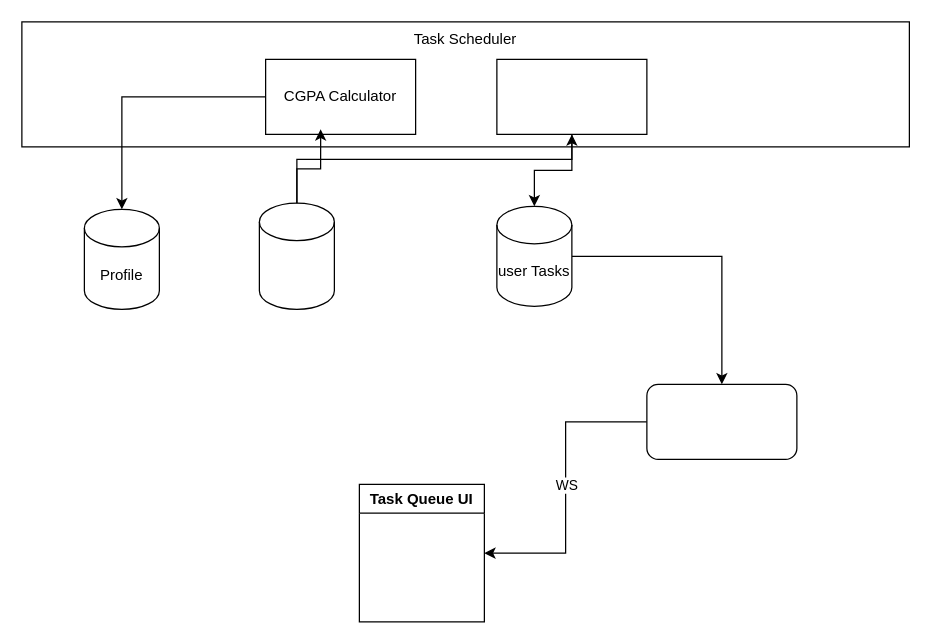
This 931x644 diagram has some shape labels left out. Each missing label, with the centre of its shape:
/user/queue: pixel 721 421
Task Creater: pixel 571 96
Tasks Aggregations: pixel 296 255
